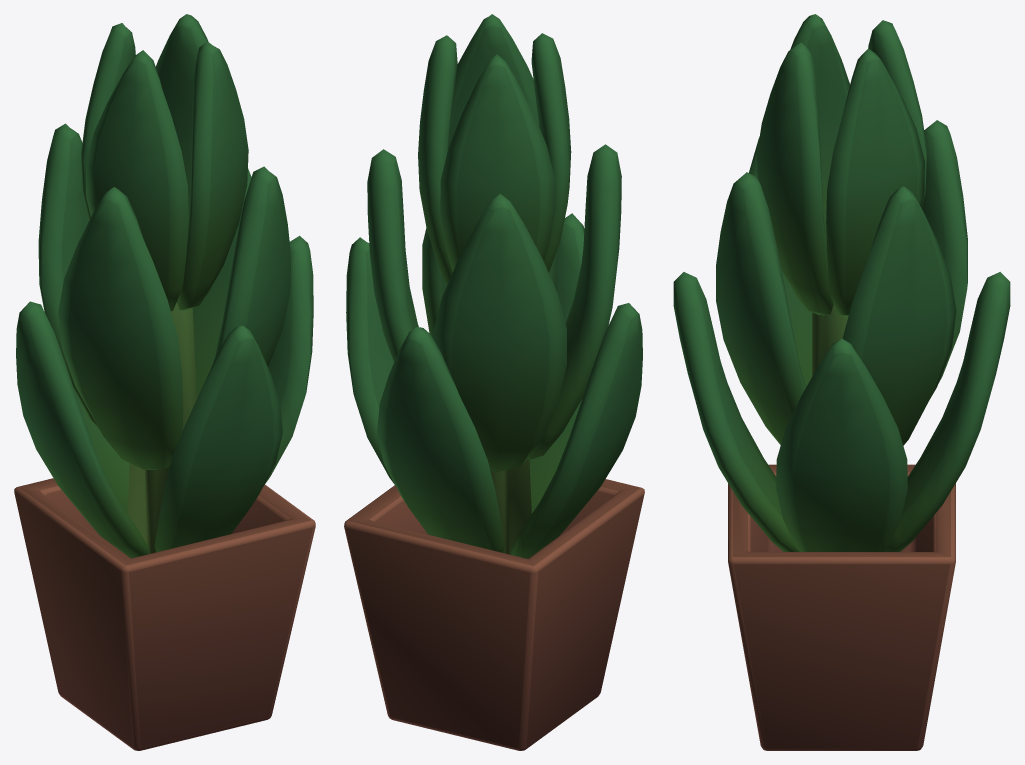
Rendered from plant.fbx.
3 views of the same model, side by side, from view 1: azimuth 30°, elevation 25°; view 2: azimuth 150°, elevation 25°; view 3: azimuth 270°, elevation 25° (orthographic).
Visible parts, largest first — view 1: plant; view 2: plant; view 3: plant.
Boxes of the visible parts, x1,y1,x2,y2 form: plant: [14, 14, 315, 750]; plant: [344, 14, 644, 750]; plant: [673, 14, 1010, 750].
Bounding box in the file's own units: 176 × 396 × 176.
